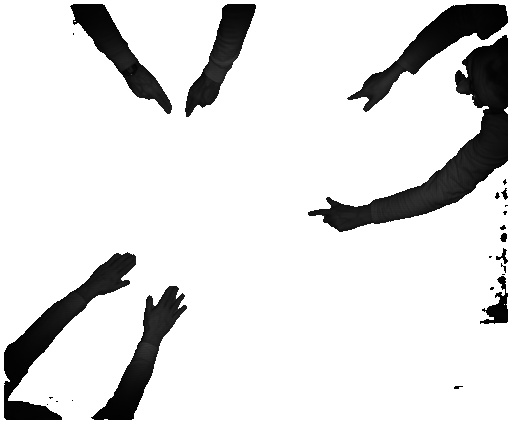hand: (145, 286, 191, 346), (126, 66, 175, 118), (88, 253, 135, 303), (344, 70, 399, 111), (304, 197, 362, 231), (184, 75, 224, 119)
